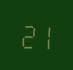one: (36, 20, 52, 50)
two: (19, 19, 35, 49)
